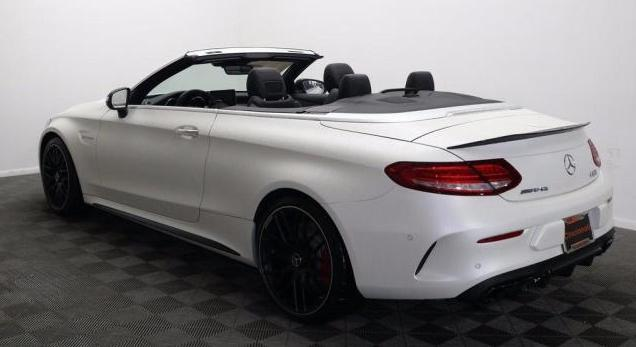C63AMG: (38, 39, 621, 323)
